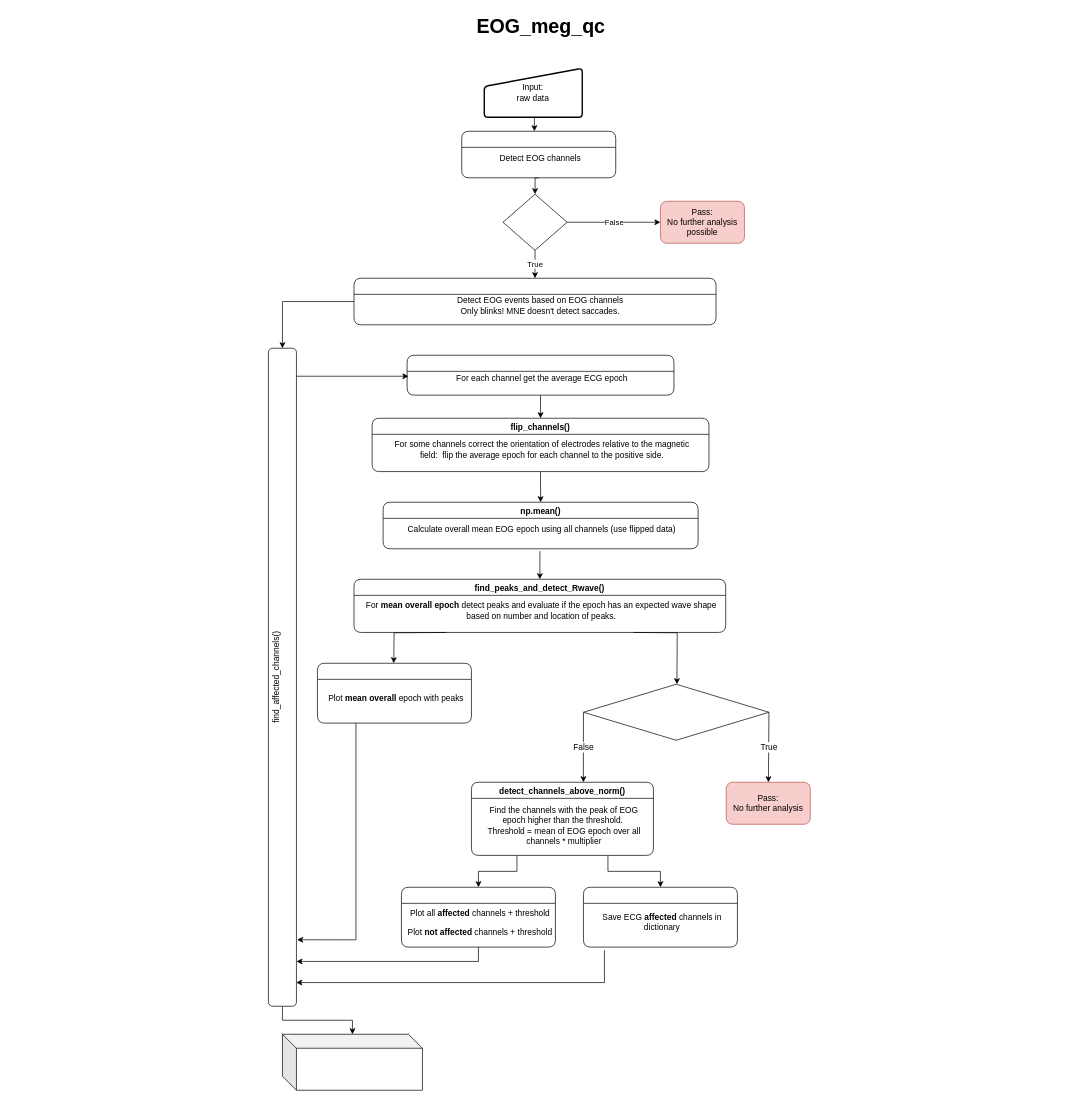
This 1081x1103 diagram has some shape labels left out. The shapes that lost their labels are listed below. From the top down, each one's box as (x1, y1, x2, y2) in pixels, then its label:
(461, 131, 616, 178): mne.pick_types(eog=True)
(502, 194, 567, 250): EOG channels present
(353, 278, 716, 325): mne.preprocessing. create_ecg_epochs()
(406, 355, 674, 395): eog_epochs . average()
(317, 663, 471, 723): plot_epoch_and_peak()
(583, 684, 769, 740): If too many peaks or no wave shape
(401, 887, 555, 947): plot_affected_channels()
(583, 887, 737, 947): make_simple_metric_eog()
(282, 1034, 422, 1090): Returns: QC derivatives (Figures), Simple metric (dict)
